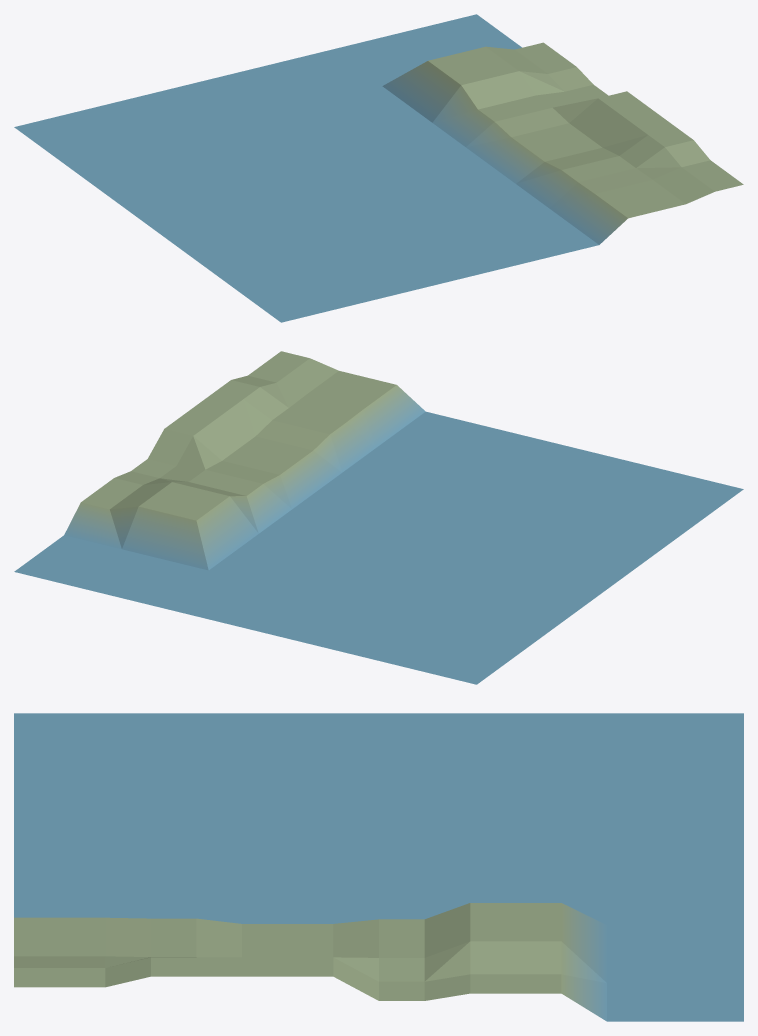
3 views of the same model, one above another, from view 1: azimuth 30°, elevation 25°; view 2: azimuth 150°, elevation 25°; view 3: azimuth 270°, elevation 25° (orthographic). The views are drawn at different scales.
Bounding box in the file's own units: 32 × 2.18 × 32.
